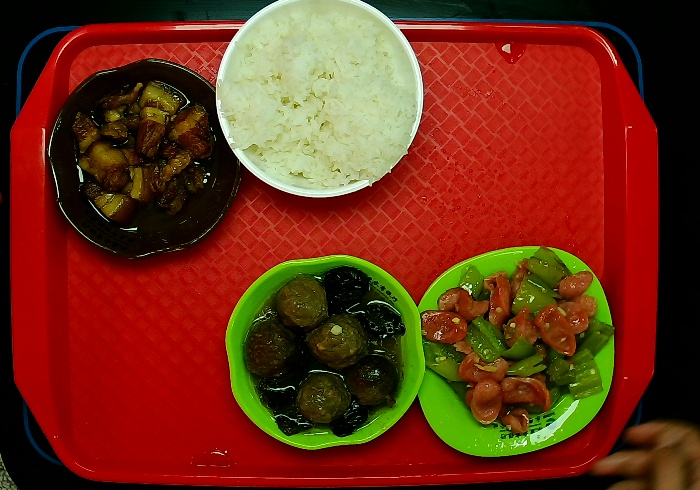YKMZ-Fan_Wan: (214, 1, 427, 197)
YKMZ-Ka_Fei_Ao_Bian_Wan: (44, 57, 239, 263)
YKMZ-Lv_Se_Ao_Bian_Wan: (224, 250, 425, 452)
YKMZ-Lv_Se_Fang_Die: (412, 242, 616, 458)
